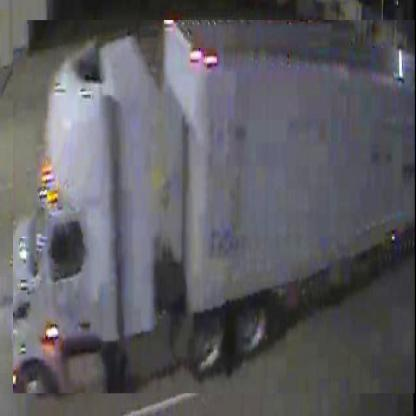container: (13, 21, 416, 396)
